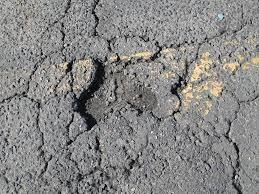pothole: (76, 56, 115, 127), (127, 75, 157, 115)
